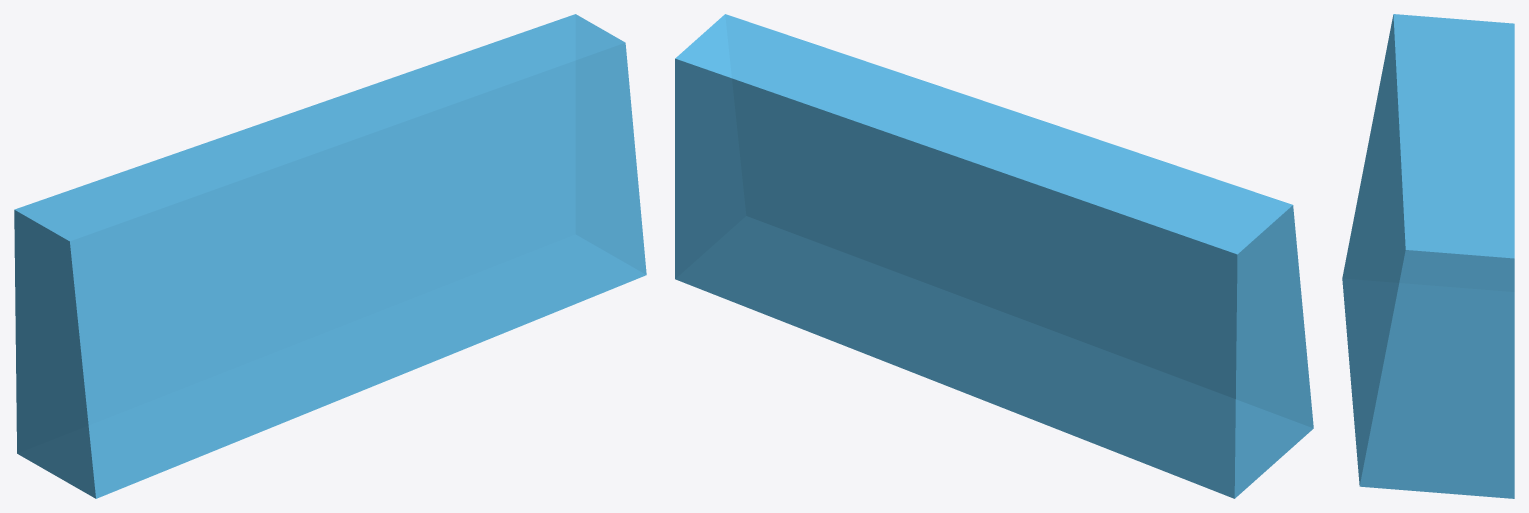
Rendered from Event_421364160_HErechit_60.fbx.
3 renders of one model, left to right at view 1: azimuth 30°, elevation 25°; view 2: azimuth 150°, elevation 25°; view 3: azimuth 270°, elevation 25°, orthographic. The views are drawn at different scales.
Parts seen in each view (by area): view 1: Model; view 2: Model; view 3: Model.
Boxes of the visible parts, x1,y1,x2,y2 form: Model: [14, 14, 646, 498]; Model: [675, 14, 1313, 498]; Model: [1342, 14, 1514, 498].
Size of the model in its own units: 1.25 by 0.6603 by 0.3038.
